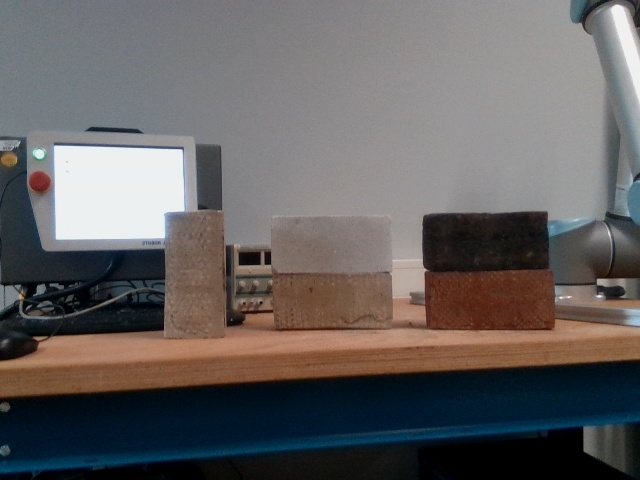brick: (168, 212, 221, 336), (431, 272, 550, 327), (427, 213, 543, 268), (275, 220, 386, 269), (278, 279, 388, 323)
